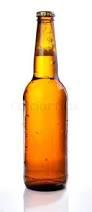Glass bottle: (21, 5, 81, 201)
